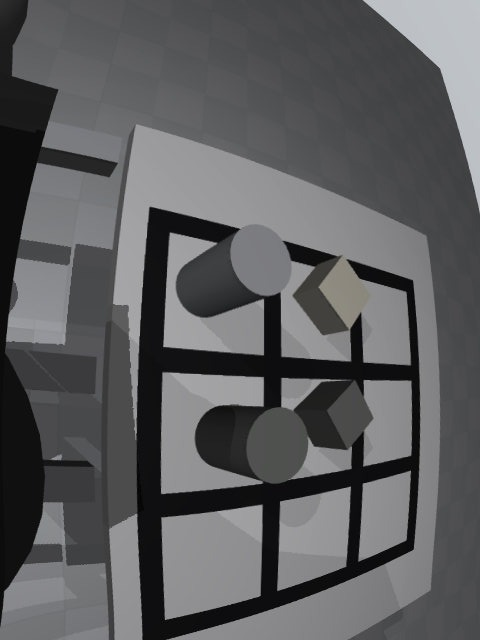can: (176, 224, 292, 318)
cube: (294, 379, 374, 450)
cylinder: (194, 405, 308, 484)
foam: (293, 254, 371, 335)
